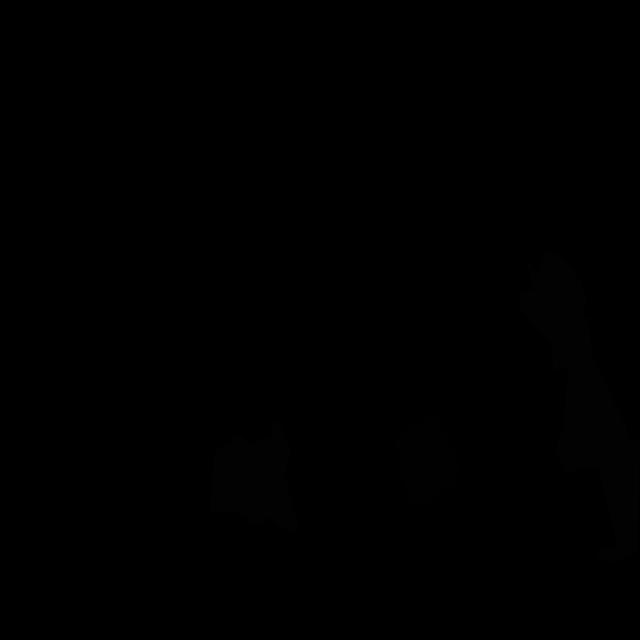cardboard: (520, 253, 628, 442), (555, 395, 640, 563), (210, 418, 299, 535)
rigid_plastic: (394, 411, 460, 511)
